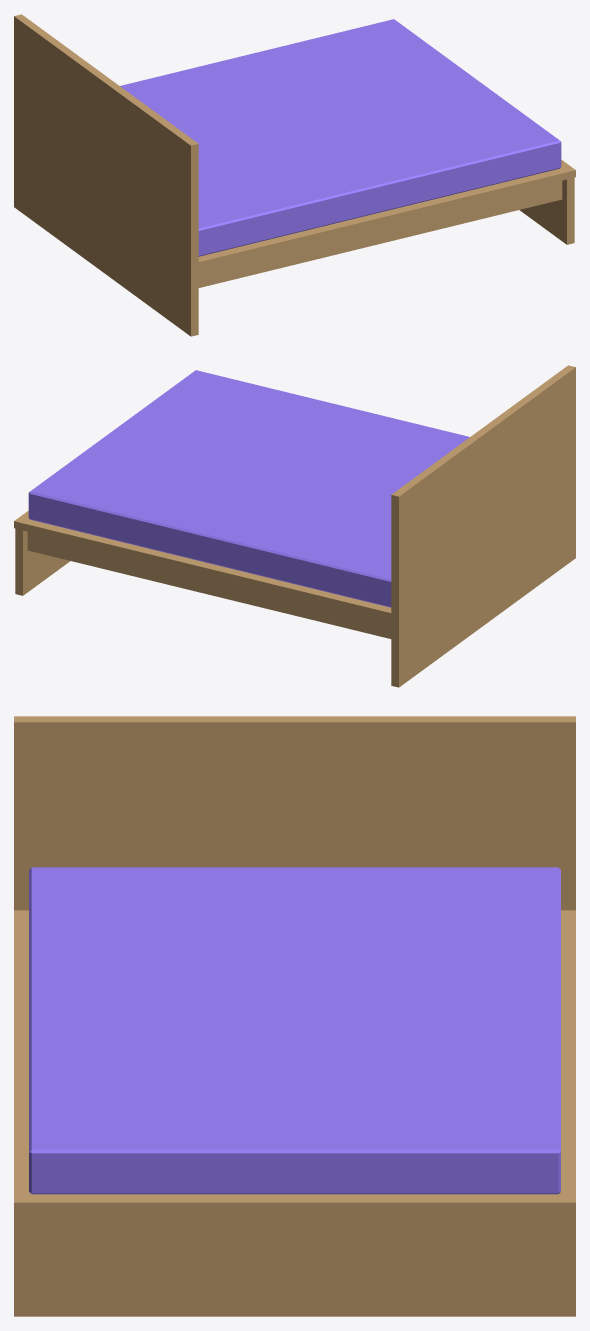
The model's file is bed.glb.
3 renders of one model, top to bottom at view 1: azimuth 30°, elevation 25°; view 2: azimuth 150°, elevation 25°; view 3: azimuth 270°, elevation 25°, orthographic. The views are drawn at different scales.
Parts seen in each view (by area): view 1: bed2; view 2: bed2; view 3: bed2.
Part boxes in pixels (box(x1,y1,x2,y2)): bed2: box(14, 14, 575, 336); bed2: box(14, 365, 575, 687); bed2: box(14, 716, 575, 1316).
Size of the model in its own units: 211 by 100 by 168.
